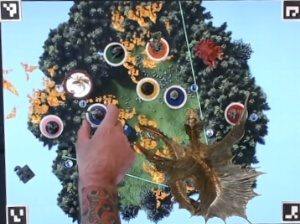blue: (163, 83, 186, 109)
orange: (144, 34, 170, 62)
pink: (37, 111, 63, 139)
red: (221, 99, 249, 123)
violet: (85, 100, 109, 128)
yellow: (134, 75, 160, 101)
